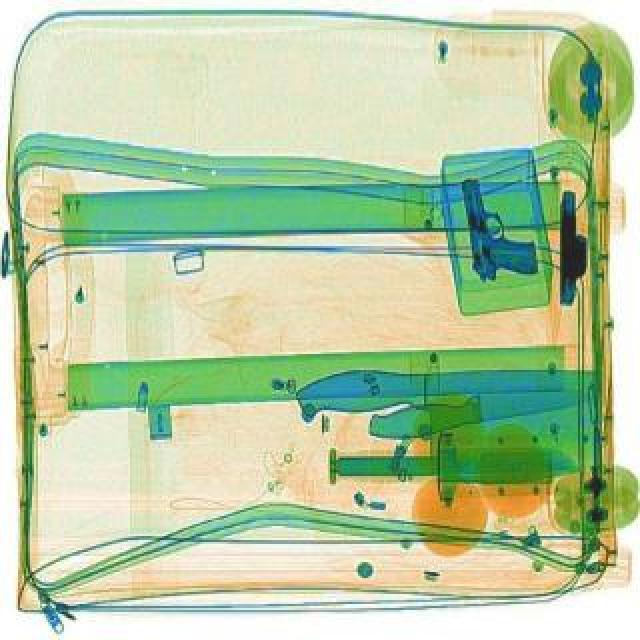gun: (456, 168, 538, 284), (554, 188, 588, 306)
knife: (292, 366, 600, 480), (362, 376, 592, 444), (334, 442, 574, 482)
